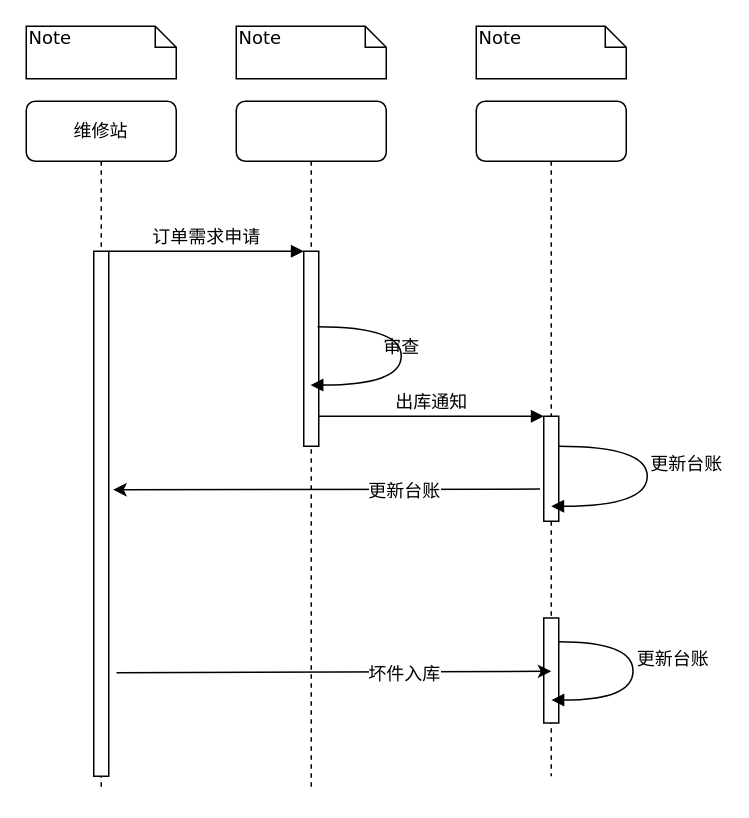
Image size: 749x818. Some labels were removed from this diagram. The shapes that lost their labels are listed below. From the top down, each one's centre as x and y in pixels, then its label:
At (310,445): "备件管理部".
At (550,438): "库房".
